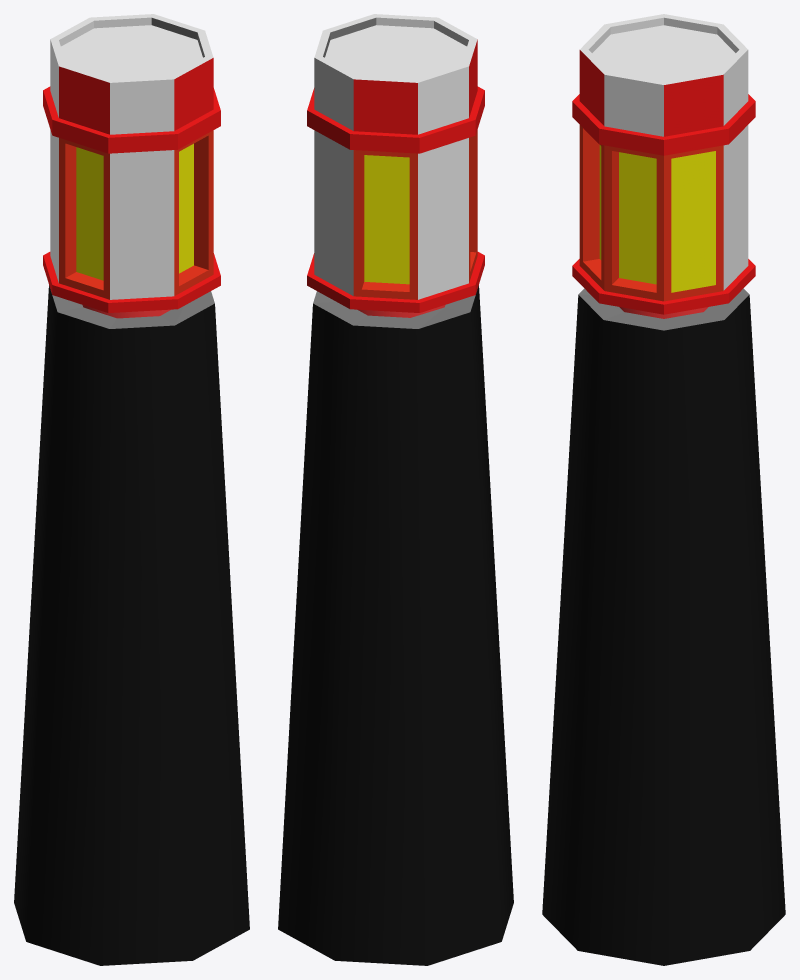
File: LightTower.fbx
The picture shows the model from 3 angles, left to right: view 1: azimuth 30°, elevation 25°; view 2: azimuth 150°, elevation 25°; view 3: azimuth 270°, elevation 25°; orthographic projection.
Parts seen in each view (by area): view 1: Cylinder001; view 2: Cylinder001; view 3: Cylinder001.
Boxes of the visible parts, x1=… form: Cylinder001: x1=14, y1=14, x2=249, y2=965; Cylinder001: x1=278, y1=14, x2=513, y2=965; Cylinder001: x1=542, y1=14, x2=785, y2=965.
Bounding box in the file's own units: 30.15 × 118 × 30.15.
